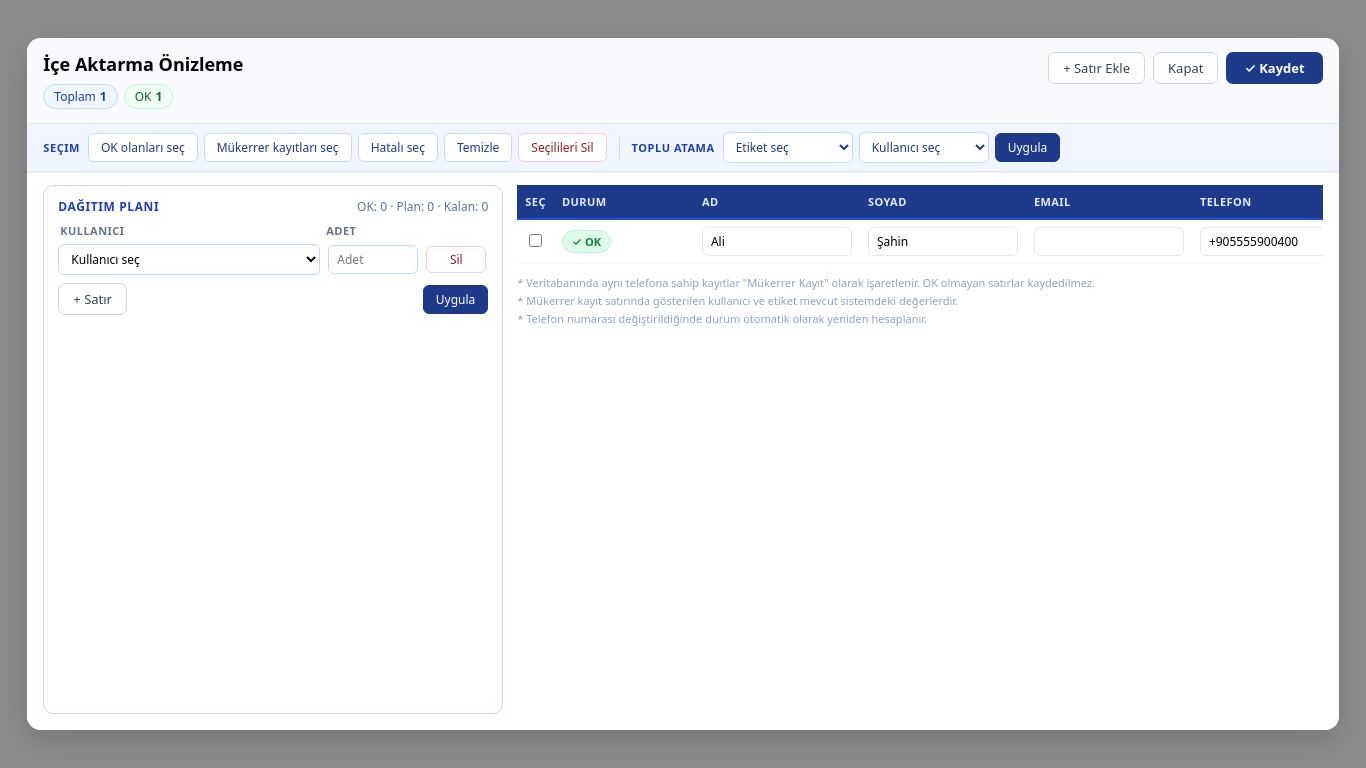
Test case: ExcelImportModal distribution plan › shows remaining selected OK rows while planning distribution
This screenshot has width=1366, height=768.
Click the checkbox at (536, 240), box [529,234,542,247]
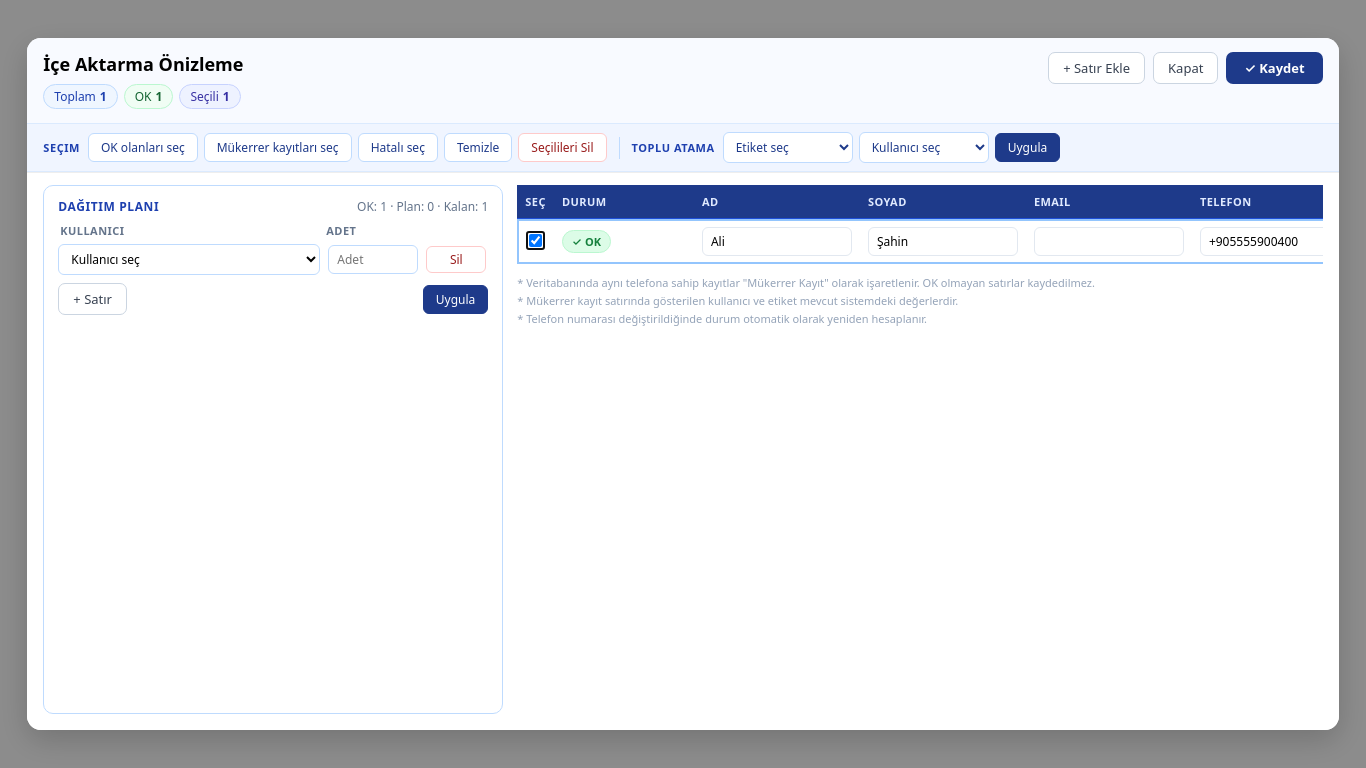
Expected: the text with class "excel-distribution-summary" shows "Plan: 0", [357,198,488,215]
Now the text with class "excel-distribution-summary" shows "OK: 1", box [357,198,488,215]
Now the text with class "excel-distribution-summary" shows "Kalan: 1", box [357,198,488,215]
Select "admin" in the dropdown below "Adet" at (189, 260), box [58,244,320,275]
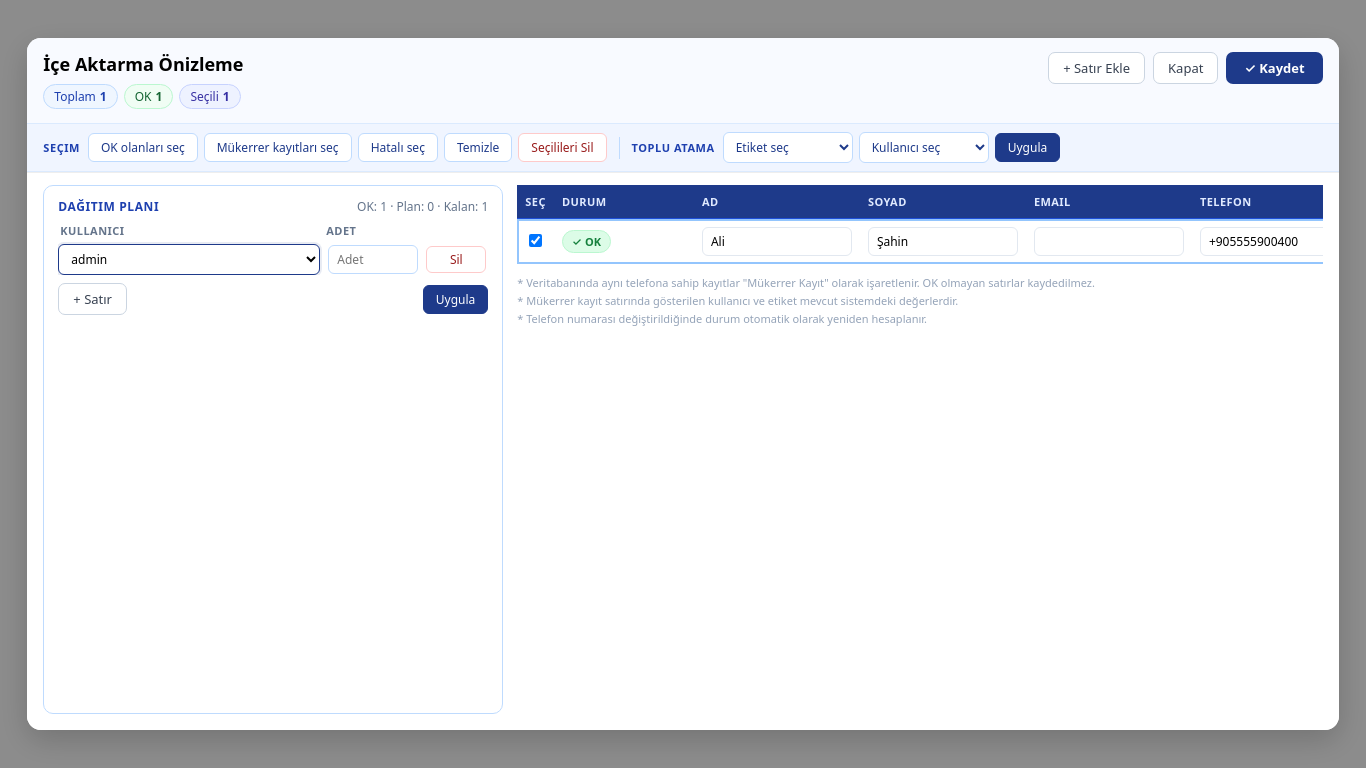
Type "1" into the number field with placeholder "Adet" at (373, 260), box [328,245,418,274]
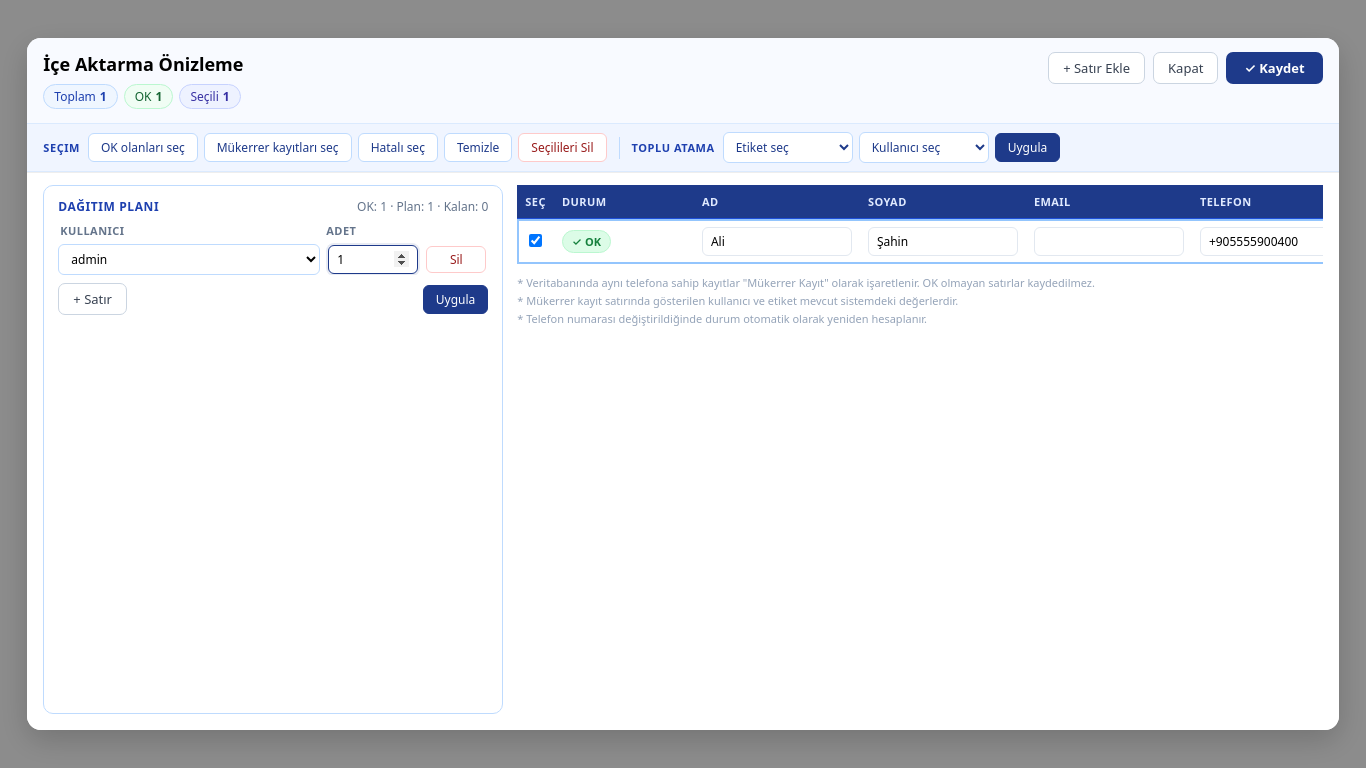
Now the text with class "excel-distribution-summary" shows "Plan: 1", box [357,198,488,215]
Now the text with class "excel-distribution-summary" shows "Kalan: 0", box [357,198,488,215]
